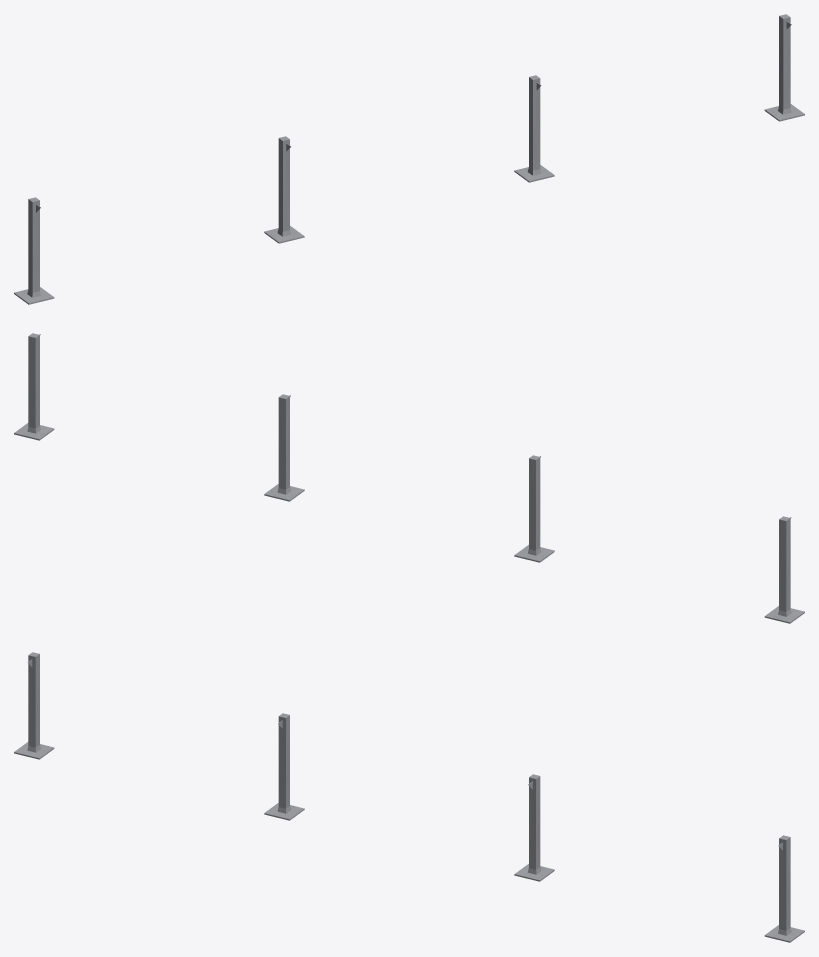
File: Stand1.fbx
3 renders of one model, top to bottom at view 1: azimuth 30°, elevation 25°; view 2: azimuth 150°, elevation 25°; view 3: azimuth 330°, elevation 25°, orthographic.
Parts seen in each view (by area): view 1: Cube.027; view 2: Cube.027; view 3: Cube.027.
Boxes of the visible parts, <box> form: Cube.027: <box>14,14,804,304</box>; Cube.027: <box>14,333,804,623</box>; Cube.027: <box>14,652,804,942</box>.
Bounding box in the file's own units: 398 × 47.34 × 13.18.
1 material, 1 textured.
